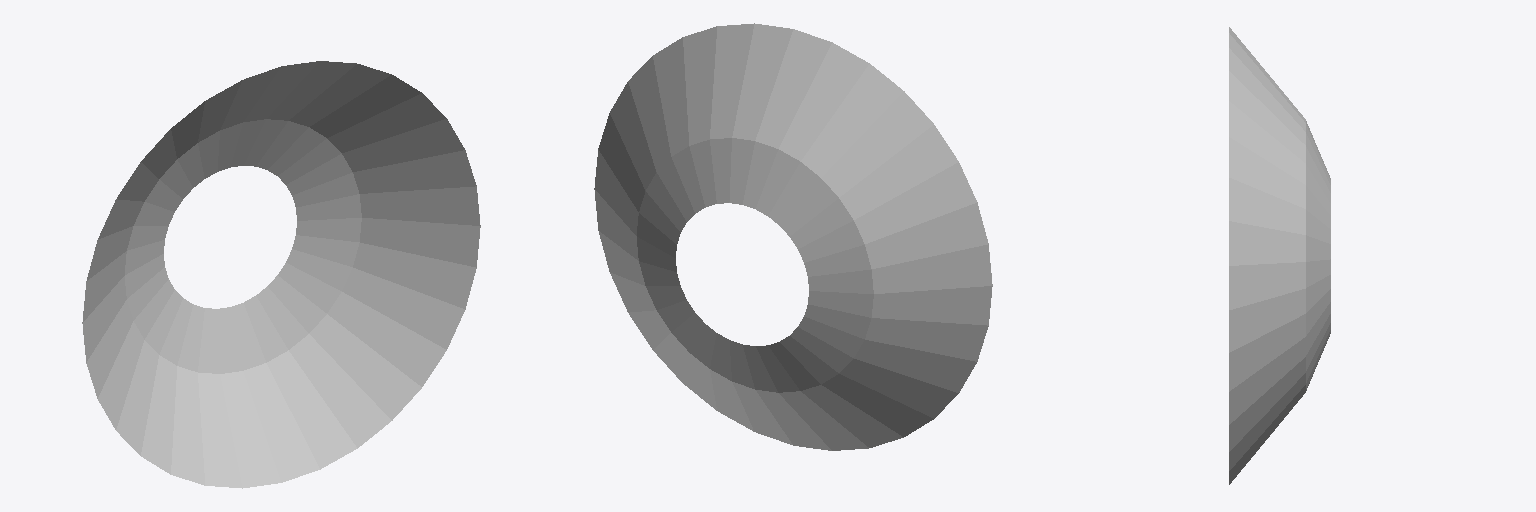
Rendered from beam-cylinder-2-rotated.mesh.obj.
3 views of the same model, side by side, from view 1: azimuth 30°, elevation 25°; view 2: azimuth 150°, elevation 25°; view 3: azimuth 270°, elevation 25° (orthographic).
Visible parts, largest first — view 1: Cylinder.001; view 2: Cylinder.001; view 3: Cylinder.001.
Part boxes in pixels (x1,y1,x2,y2): Cylinder.001: (82,61,480,488); Cylinder.001: (594,23,992,450); Cylinder.001: (1229,27,1330,484).
Bounding box in the file's own units: 3.47 × 3.47 × 0.771.